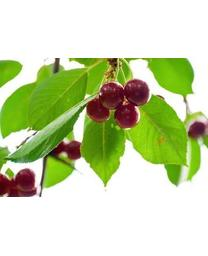cherry: (115, 103, 141, 129), (124, 79, 149, 106), (85, 96, 110, 121), (100, 83, 124, 109), (14, 169, 37, 190), (66, 142, 84, 160)
